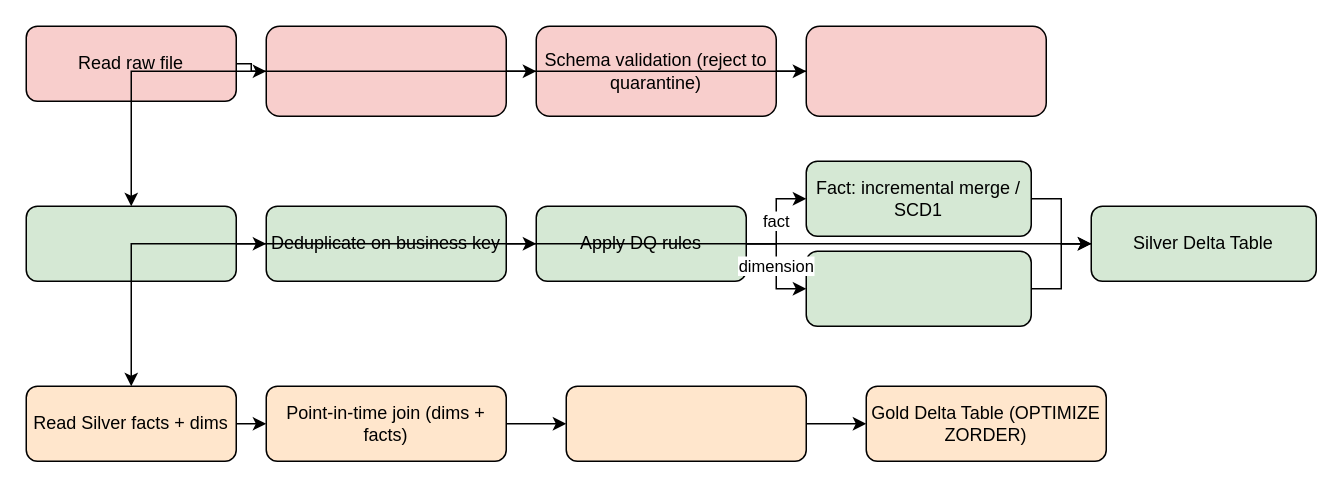
This 1343x488 diagram has some shape labels left out. Each missing label, with the box of its shape:
Attach metadata (_source_file, _ingest_ts, _batch_id): (265, 25, 506, 116)
Bronze Delta Table (partitioned by _ingest_date): (805, 25, 1046, 116)
Build star schema: (565, 385, 806, 461)
Dimension: SCD2 merge: (805, 250, 1031, 326)
Read Bronze incremental: (25, 205, 236, 281)
